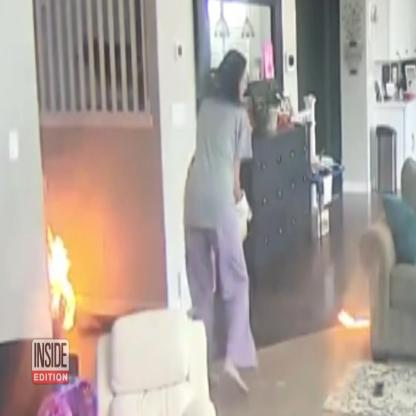fire: (46, 224, 76, 329), (337, 310, 371, 330)
